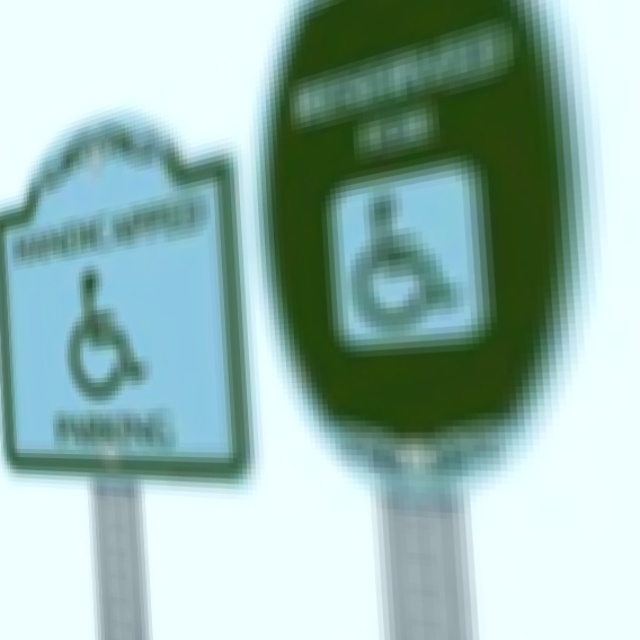ISA: (336, 171, 476, 341), (61, 258, 150, 399)
